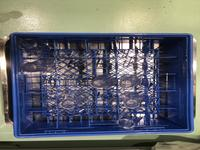Glass: (19, 38, 55, 57), (116, 109, 144, 129), (21, 59, 57, 73), (61, 92, 87, 109), (120, 92, 145, 109), (89, 75, 117, 89), (119, 74, 141, 89)
